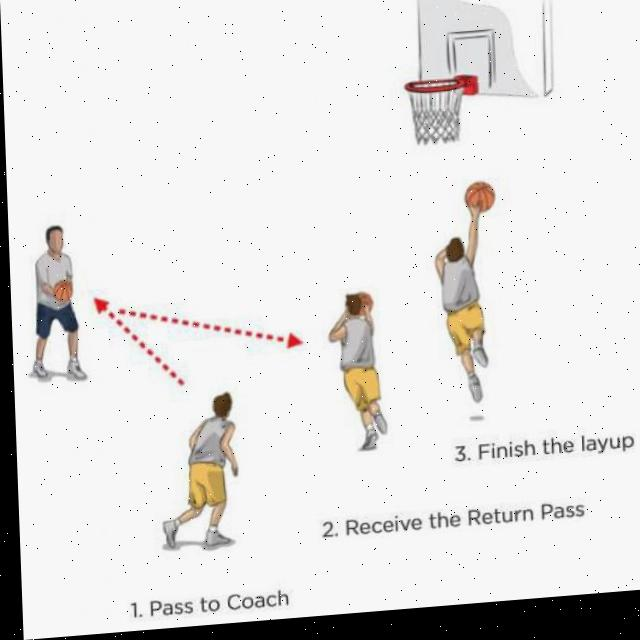Basketball: (464, 180, 497, 213), (351, 290, 374, 317), (53, 280, 72, 303)
hoop: (404, 77, 468, 148)
